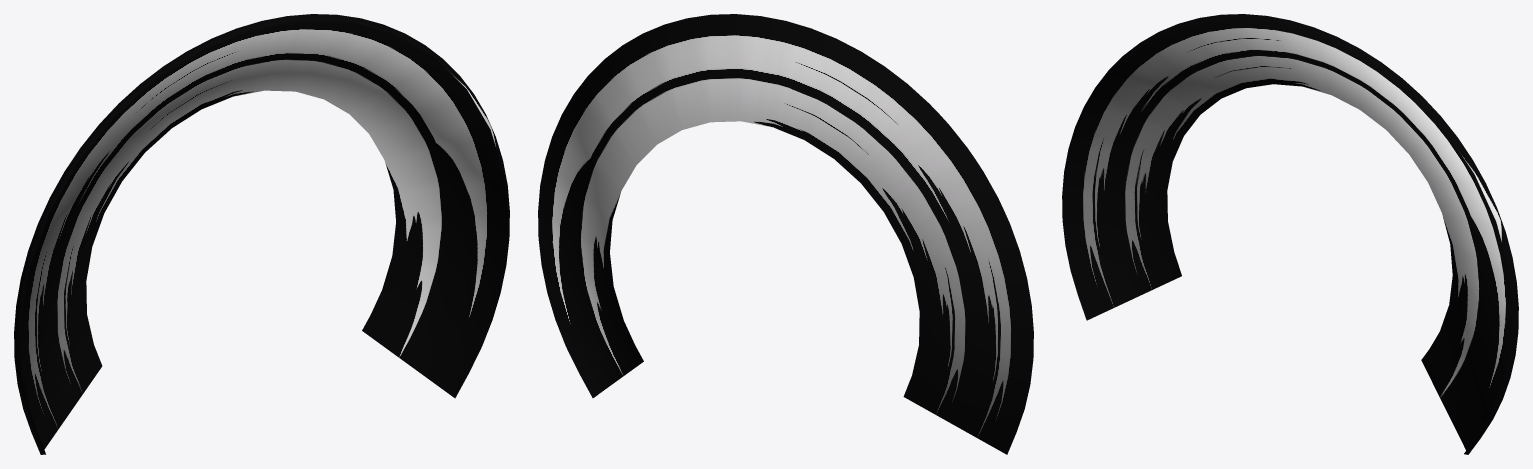
Rendered from Slash2.fbx.
3 renders of one model, left to right at view 1: azimuth 30°, elevation 25°; view 2: azimuth 150°, elevation 25°; view 3: azimuth 330°, elevation 25°, orthographic. The views are drawn at different scales.
Visible parts, largest first — view 1: Eff_Model_BladeTrail_02_02b; view 2: Eff_Model_BladeTrail_02_02b; view 3: Eff_Model_BladeTrail_02_02b.
Part boxes in pixels (x1=…): Eff_Model_BladeTrail_02_02b: x1=14, y1=14, x2=509, y2=454; Eff_Model_BladeTrail_02_02b: x1=538, y1=14, x2=1033, y2=454; Eff_Model_BladeTrail_02_02b: x1=1062, y1=14, x2=1518, y2=454.
Bounding box in the file's own units: 87.39 × 71.53 × 7.18.
